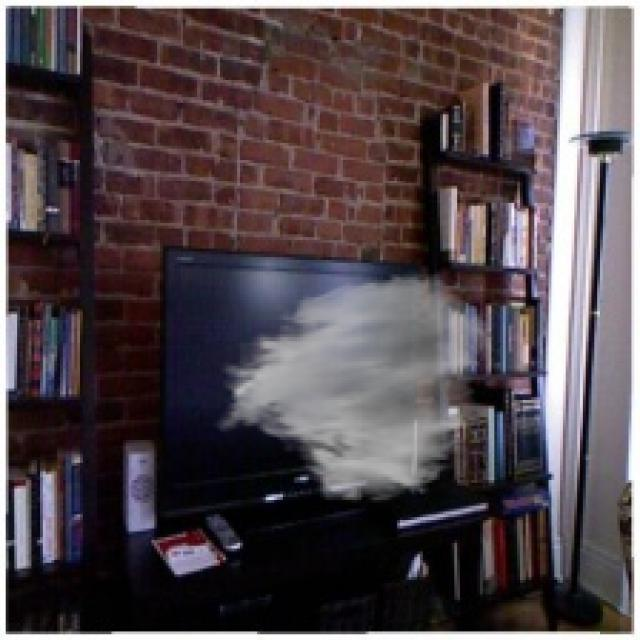Smoke: (212, 271, 494, 506)
